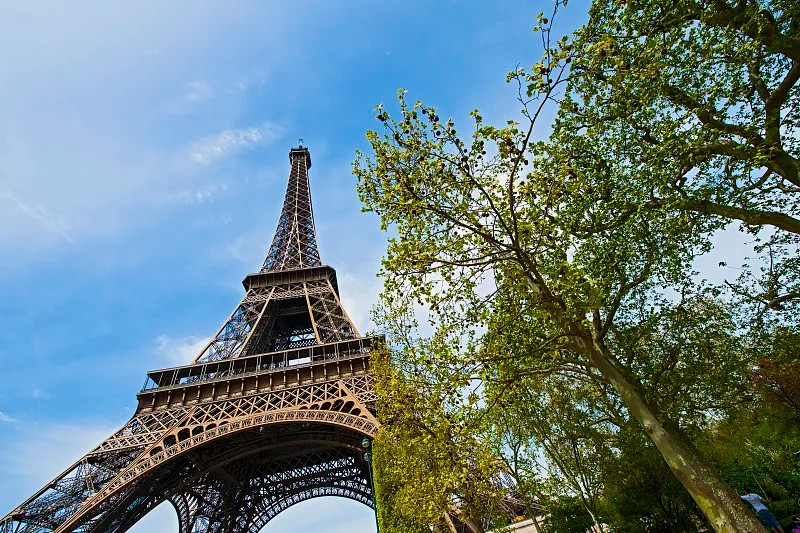Eiffel: (1, 138, 411, 532)
